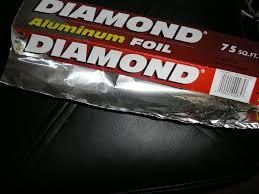metal: (3, 0, 259, 131)
